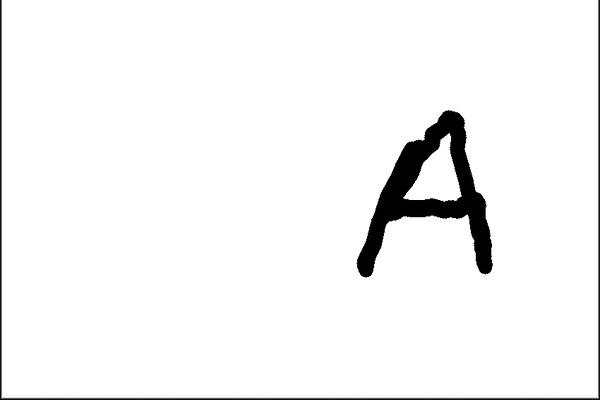A: (349, 107, 503, 287)
